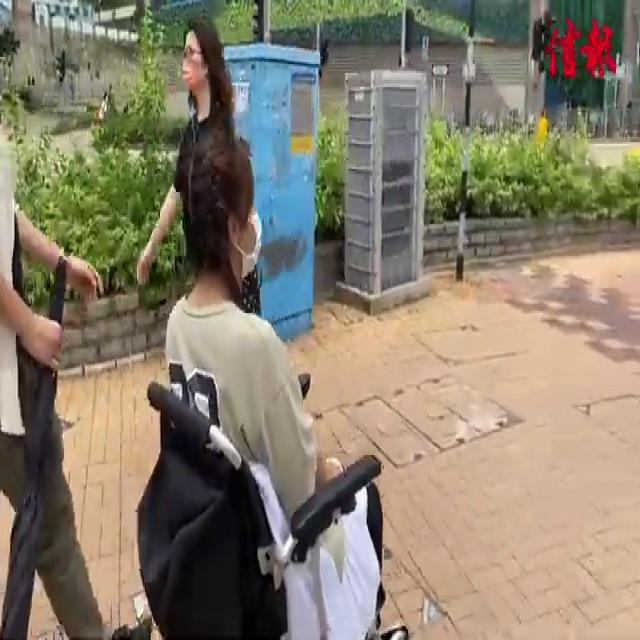wheelchairs: (122, 368, 419, 640)
